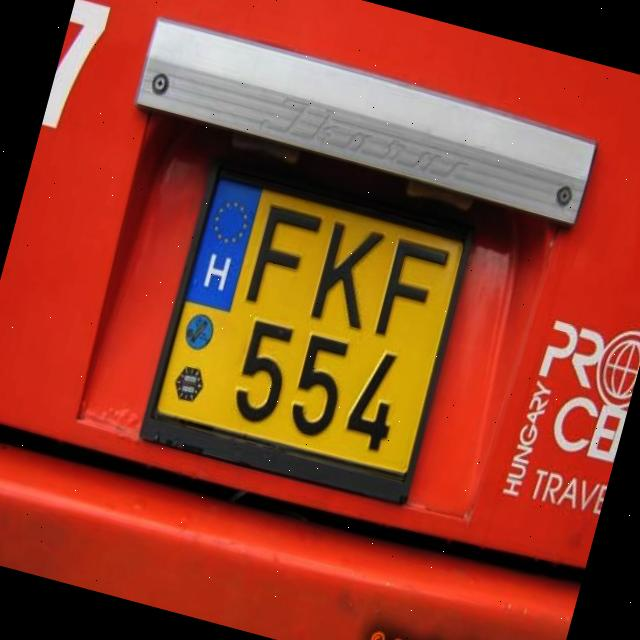licence: (140, 159, 480, 504)
